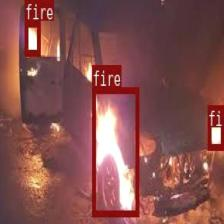fire: (92, 86, 138, 214), (207, 104, 223, 148), (24, 20, 40, 54)
